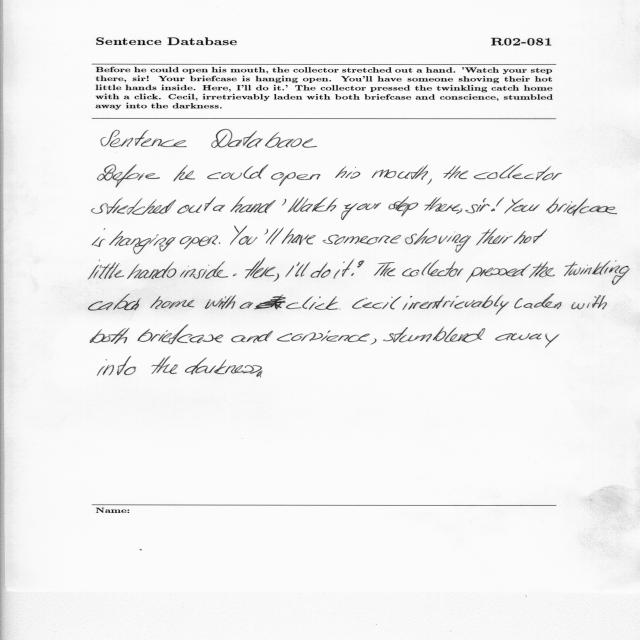word: (408, 295, 509, 315), (211, 129, 317, 148), (383, 326, 485, 343), (405, 228, 471, 253), (564, 260, 630, 285), (138, 325, 224, 344), (109, 231, 176, 254), (180, 226, 247, 249), (97, 164, 160, 188), (474, 164, 562, 181), (101, 130, 187, 147), (92, 198, 177, 215), (254, 294, 338, 310), (185, 358, 262, 375), (546, 198, 617, 216), (466, 264, 531, 282), (277, 330, 370, 342), (402, 260, 463, 277), (207, 164, 269, 180), (495, 333, 560, 348), (88, 294, 141, 311), (180, 261, 228, 279), (127, 262, 177, 279), (372, 165, 428, 180), (323, 235, 401, 245), (98, 356, 137, 376), (514, 293, 562, 309), (288, 197, 338, 212), (88, 260, 124, 280), (271, 172, 321, 186), (341, 203, 381, 220), (177, 197, 216, 214), (90, 328, 130, 344), (476, 228, 513, 245), (389, 197, 419, 217), (245, 258, 275, 278), (282, 228, 316, 245), (150, 296, 194, 309), (424, 197, 460, 212), (504, 199, 540, 214), (571, 295, 607, 310), (231, 196, 262, 213), (363, 296, 402, 309), (231, 331, 273, 343), (514, 229, 547, 244), (151, 356, 178, 374), (205, 295, 236, 309), (334, 259, 355, 279), (529, 262, 555, 278), (465, 198, 490, 213), (173, 165, 195, 181), (264, 228, 284, 245), (335, 166, 361, 179), (444, 166, 469, 179), (311, 262, 331, 278), (374, 262, 396, 276), (92, 228, 106, 247), (257, 200, 276, 213), (285, 262, 300, 277), (295, 262, 310, 277), (491, 198, 504, 212), (403, 296, 413, 310), (352, 299, 365, 309), (240, 302, 253, 309), (239, 236, 249, 245), (246, 237, 257, 245), (213, 205, 225, 211), (273, 273, 279, 282), (358, 261, 365, 268), (370, 338, 377, 345), (256, 371, 263, 378), (457, 208, 463, 214), (427, 179, 432, 185), (282, 199, 286, 206), (351, 273, 354, 276), (233, 274, 237, 276)
